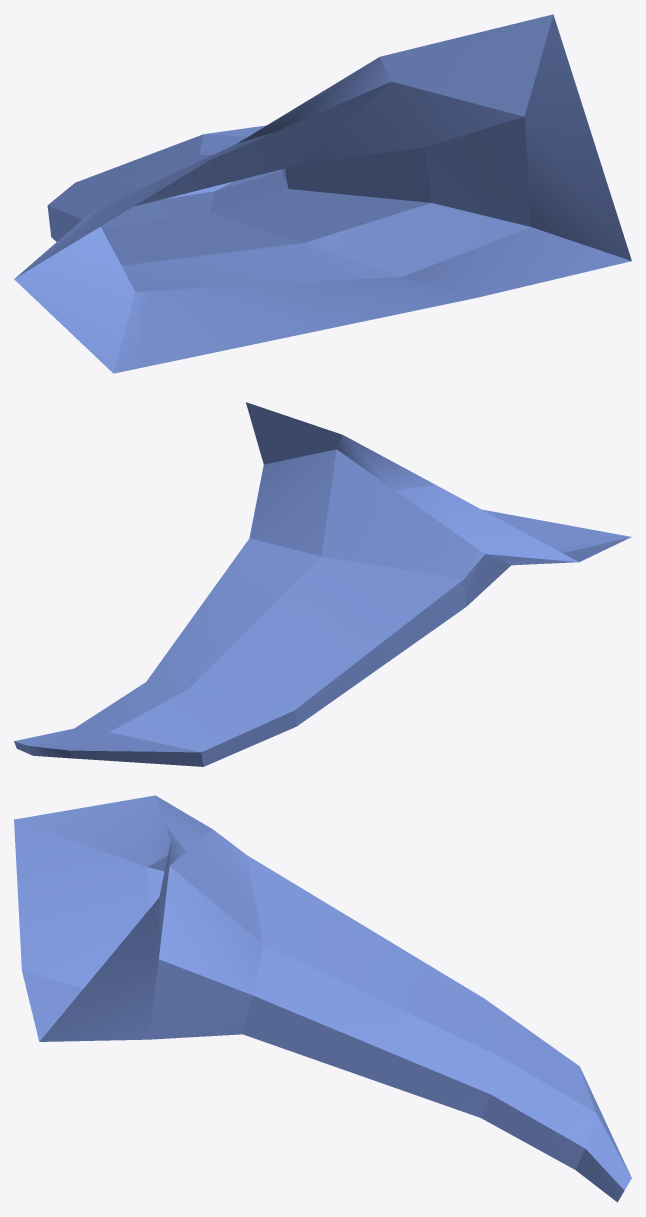
The model's file is SideFin_R.obj.
3 views of the same model, one above another, from view 1: azimuth 30°, elevation 25°; view 2: azimuth 150°, elevation 25°; view 3: azimuth 270°, elevation 25° (orthographic). The views are drawn at different scales.
Visible parts, largest first — view 1: polySurface9 pCylinder5; view 2: polySurface9 pCylinder5; view 3: polySurface9 pCylinder5.
Boxes of the visible parts, box(x1,y1,x2,y2) form: polySurface9 pCylinder5: box(14, 14, 631, 373); polySurface9 pCylinder5: box(14, 402, 631, 766); polySurface9 pCylinder5: box(14, 795, 631, 1202).
Size of the model in its own units: 3.59 by 2.05 by 4.09.
